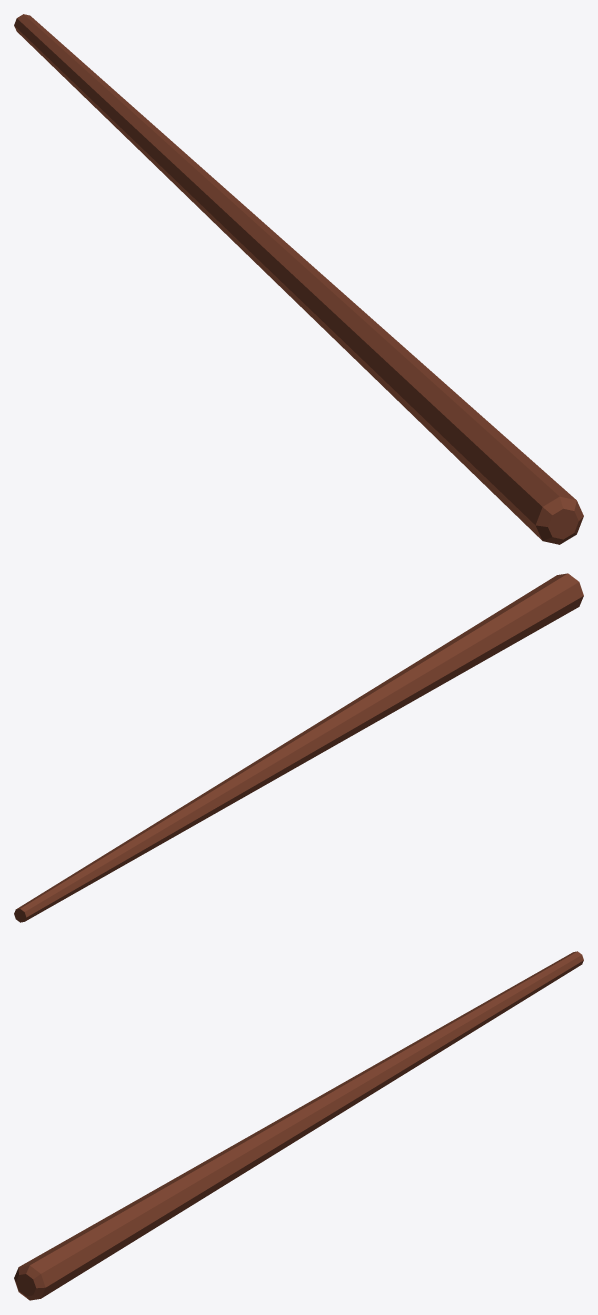
Rendered from chopstic_2.fbx.
3 views of the same model, one above another, from view 1: azimuth 30°, elevation 25°; view 2: azimuth 150°, elevation 25°; view 3: azimuth 330°, elevation 25° (orthographic). The views are drawn at different scales.
Parts seen in each view (by area): view 1: diiner_objects_1:dner_objects:pCylinder5; view 2: diiner_objects_1:dner_objects:pCylinder5; view 3: diiner_objects_1:dner_objects:pCylinder5.
Boxes of the visible parts, bbox=[...] form: diiner_objects_1:dner_objects:pCylinder5: bbox=[14, 14, 583, 544]; diiner_objects_1:dner_objects:pCylinder5: bbox=[14, 573, 583, 922]; diiner_objects_1:dner_objects:pCylinder5: bbox=[14, 951, 583, 1300].
Bounding box in the file's own units: 1.22 × 0.4057 × 9.88.
